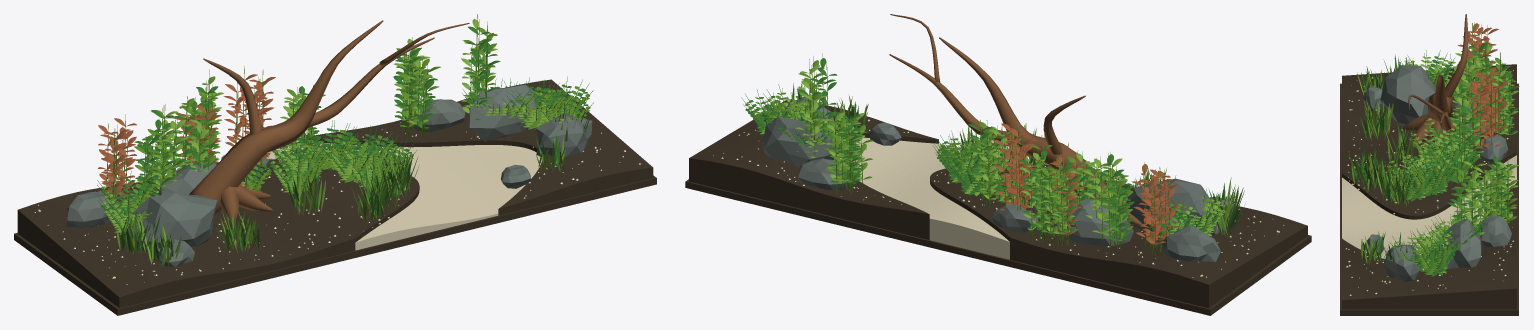
The model's file is hardscape.glb.
3 views of the same model, side by side, from view 1: azimuth 30°, elevation 25°; view 2: azimuth 150°, elevation 25°; view 3: azimuth 270°, elevation 25° (orthographic). The views are drawn at different scales.
Visible parts, largest first — view 1: bed.left, bed.path, bed.right, hardscape.wood.angular, bed.foundation, hardscape.stone.00, hardscape.stone.04, plants.stem.049, plants.stem.015, plants.stem.027, hardscape.stone.05, plants.stem.047 (+42 smaller); view 2: bed.left, bed.right, bed.path, bed.foundation, hardscape.wood.angular, hardscape.stone.04, plants.stem.015, plants.stem.027, plants.stem.020, hardscape.stone.00, plants.stem.022, plants.stem.039 (+18 smaller); view 3: bed.right, bed.left, bed.path, hardscape.stone.00, hardscape.wood.angular, bed.foundation, plants.stem.020, plants.stem.027, hardscape.stone.04, plants.stem.021, plants.stem.049, plants.stem.016 (+52 smaller).
Part boxes in pixels (left/top/right/bottom): bed.left: left=17, top=159, right=419, bottom=307; bed.path: left=266, top=142, right=541, bottom=250; bed.right: left=309, top=79, right=653, bottom=215; hardscape.wood.angular: left=189, top=20, right=469, bottom=226; bed.foundation: left=14, top=175, right=656, bottom=315; hardscape.stone.00: left=128, top=193, right=217, bottom=252; hardscape.stone.04: left=468, top=84, right=536, bottom=141; plants.stem.049: left=393, top=53, right=440, bottom=136; plants.stem.015: left=98, top=114, right=136, bottom=202; plants.stem.027: left=461, top=14, right=500, bottom=134; hardscape.stone.05: left=535, top=114, right=592, bottom=156; plants.stem.047: left=134, top=129, right=177, bottom=195; bed.left: left=930, top=164, right=1307, bottom=308; bed.right: left=689, top=99, right=938, bottom=239; bed.path: left=832, top=137, right=1048, bottom=259; bed.foundation: left=685, top=179, right=1311, bottom=315; hardscape.wood.angular: left=889, top=14, right=1141, bottom=225; hardscape.stone.04: left=763, top=116, right=837, bottom=167; plants.stem.015: left=1131, top=162, right=1181, bottom=255; plants.stem.027: left=794, top=53, right=837, bottom=159; plants.stem.020: left=991, top=118, right=1036, bottom=212; hardscape.stone.00: left=1126, top=178, right=1220, bottom=234; plants.stem.022: left=1039, top=160, right=1076, bottom=245; plants.stem.039: left=822, top=107, right=862, bottom=194; bed.right: left=1342, top=183, right=1516, bottom=309; bed.left: left=1342, top=64, right=1516, bottom=219; bed.path: left=1342, top=155, right=1516, bottom=258; hardscape.stone.00: left=1380, top=65, right=1435, bottom=125; hardscape.wood.angular: left=1403, top=14, right=1469, bottom=147; bed.foundation: left=1340, top=83, right=1518, bottom=315; plants.stem.020: left=1467, top=64, right=1509, bottom=159; plants.stem.027: left=1446, top=150, right=1486, bottom=236; hardscape.stone.04: left=1441, top=219, right=1481, bottom=268; plants.stem.021: left=1448, top=96, right=1486, bottom=170; plants.stem.049: left=1472, top=164, right=1512, bottom=223; plants.stem.016: left=1491, top=52, right=1519, bottom=144.
Size of the model in its own units: 0.882 by 0.272 by 0.2955.
